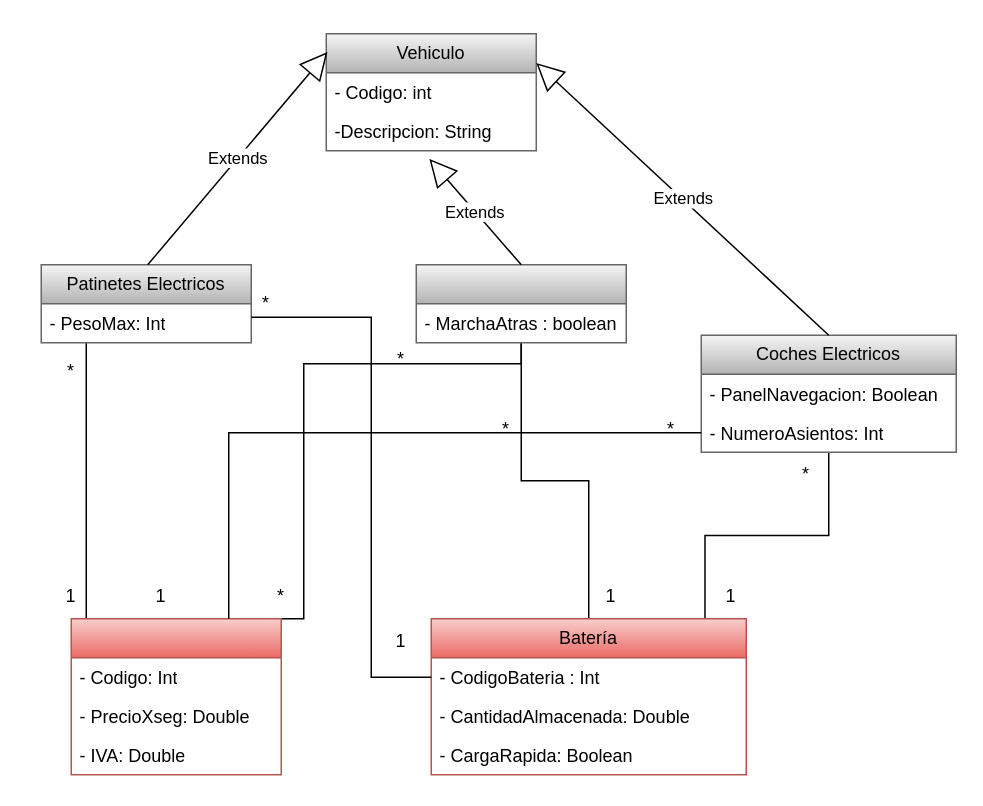
This 983x806 diagram has some shape labels left out. The shapes that lost their labels are listed below. From the top down, each one's box as (x1, y1, x2, y2) in pixels, then its label:
(415, 263, 626, 343): Motos Electricas
(70, 617, 281, 775): Tarifa
